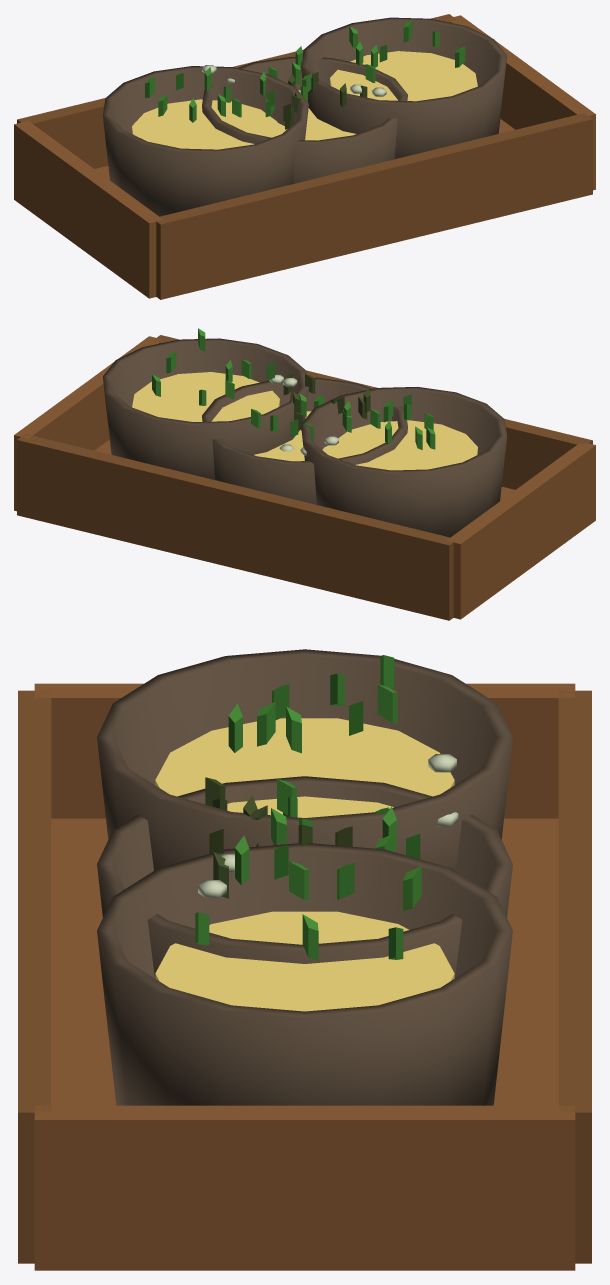
File: Egg_Steamed.fbx
3 renders of one model, top to bottom at view 1: azimuth 30°, elevation 25°; view 2: azimuth 150°, elevation 25°; view 3: azimuth 270°, elevation 25°, orthographic. The views are drawn at different scales.
Parts seen in each view (by area): view 1: Egg_Steamed__Stack, Egg_Steamed, Egg_Steamed__Rotten; view 2: Egg_Steamed__Stack, Egg_Steamed, Egg_Steamed__Rotten; view 3: Egg_Steamed__Stack, Egg_Steamed, Egg_Steamed__Rotten.
Part boxes in pixels (left/top/right/bottom): Egg_Steamed__Stack: left=14, top=14, right=595, bottom=299; Egg_Steamed: left=202, top=46, right=407, bottom=183; Egg_Steamed__Rotten: left=202, top=65, right=386, bottom=129; Egg_Steamed__Stack: left=14, top=328, right=595, bottom=620; Egg_Steamed: left=202, top=377, right=407, bottom=504; Egg_Steamed__Rotten: left=269, top=373, right=370, bottom=455; Egg_Steamed__Stack: left=18, top=649, right=591, bottom=1270; Egg_Steamed: left=97, top=776, right=512, bottom=978; Egg_Steamed__Rotten: left=198, top=754, right=458, bottom=898.
Bounding box in the file's own units: 0.248 × 0.0726 × 0.138.
